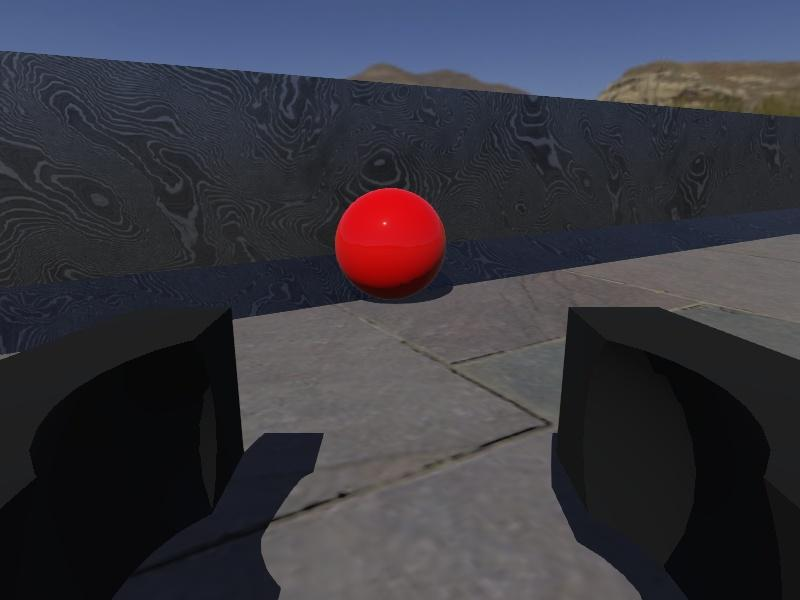red ball: (333, 185, 447, 303)
